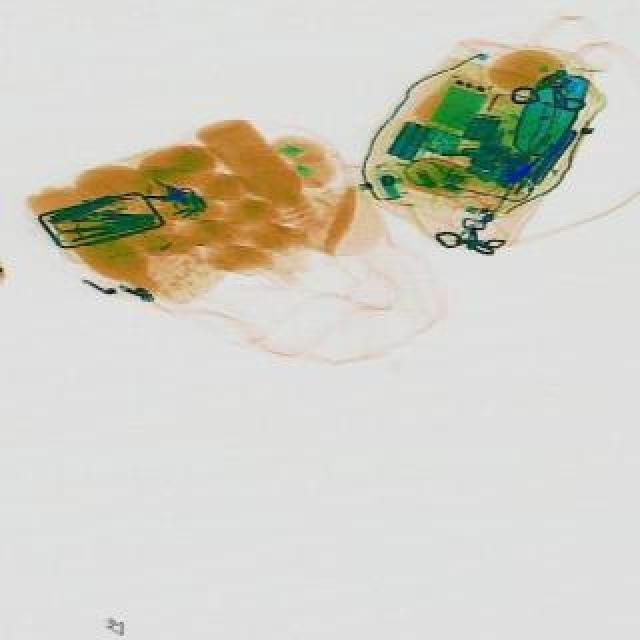pliers: (54, 218, 118, 242)
